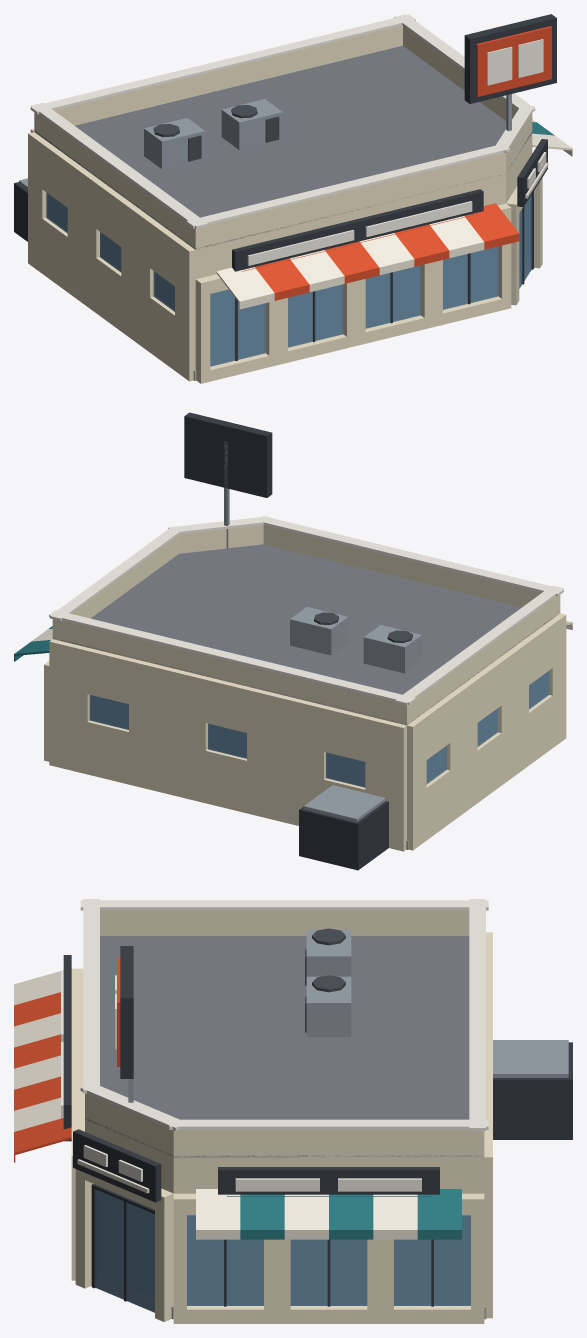
The model's file is BUILDING_06.obj.
3 views of the same model, one above another, from view 1: azimuth 30°, elevation 25°; view 2: azimuth 150°, elevation 25°; view 3: azimuth 270°, elevation 25° (orthographic). The views are drawn at different scales.
Parts seen in each view (by area): view 1: roof, walls_floor00, storefront, awnings, storefront_glass, signage, roof_sign, roof_equipment, walls_core, windows_floor00, doors, props; view 2: roof, walls_floor00, roof_sign, props, windows_floor00, roof_equipment, awnings, storefront; view 3: roof, storefront, awnings, storefront_glass, signage, props, walls_core, doors, roof_equipment, walls_floor00, roof_sign.
Part boxes in pixels (box(x1,y1,x2,y2)): roof: box(30, 14, 535, 249); walls_floor00: box(28, 128, 195, 381); storefront: box(195, 177, 542, 383); awnings: box(216, 119, 572, 309); storefront_glass: box(210, 246, 498, 366); signage: box(232, 139, 548, 271); roof_sign: box(464, 14, 556, 131); roof_equipment: box(144, 99, 282, 168); walls_core: box(195, 133, 532, 278); windows_floor00: box(46, 192, 174, 311); doors: box(519, 191, 533, 288); props: box(14, 178, 27, 241); roof: box(49, 516, 563, 725); walls_floor00: box(49, 613, 566, 851); roof_sign: box(184, 412, 272, 548); props: box(299, 785, 388, 870); windows_floor00: box(89, 671, 549, 787); roof_equipment: box(290, 607, 421, 673); awnings: box(14, 621, 572, 661); storefront: box(44, 661, 49, 761); roof: box(80, 899, 488, 1157); storefront: box(71, 968, 484, 1323); awnings: box(14, 970, 461, 1239); storefront_glass: box(187, 1215, 470, 1305); signage: box(61, 955, 439, 1202); props: box(493, 1040, 572, 1139); walls_core: box(85, 1120, 484, 1193); doors: box(91, 1184, 154, 1312); roof_equipment: box(305, 928, 351, 1037); walls_floor00: box(484, 932, 492, 1318); roof_sign: box(115, 946, 133, 1102).
Bounding box in the file's own units: 13.8 × 8 × 12.6.
